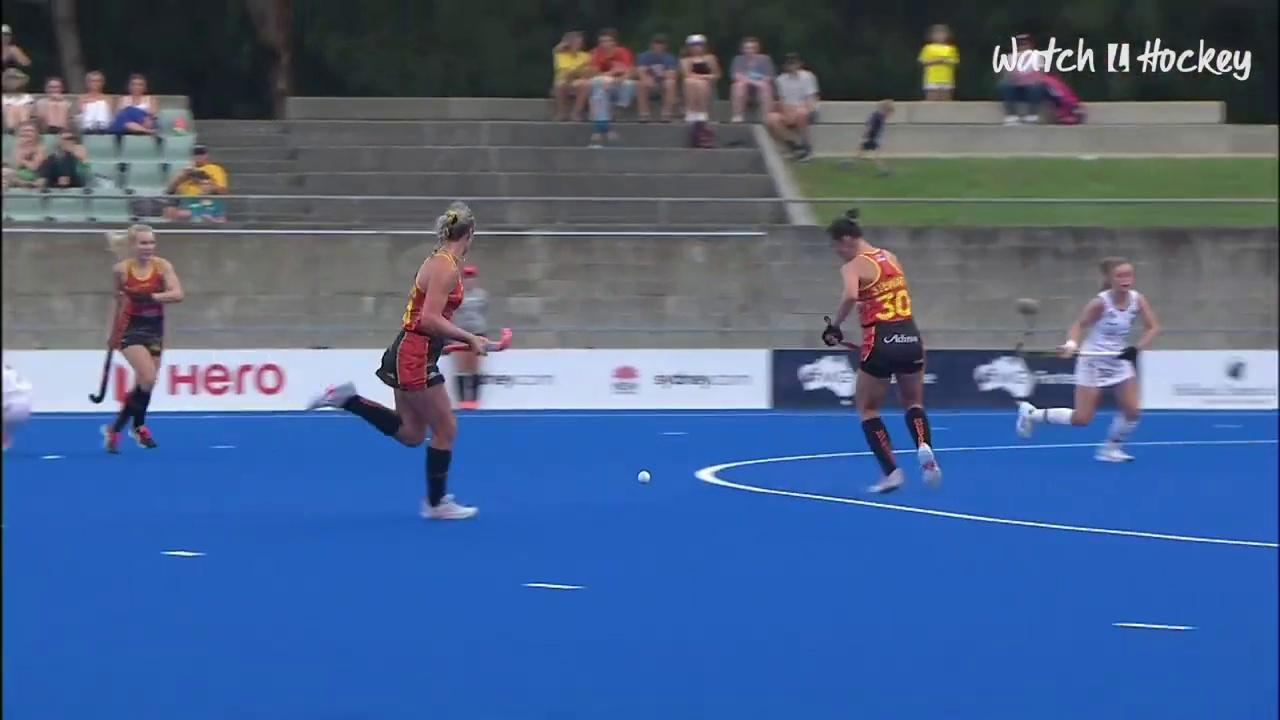ball: (630, 462, 662, 488)
